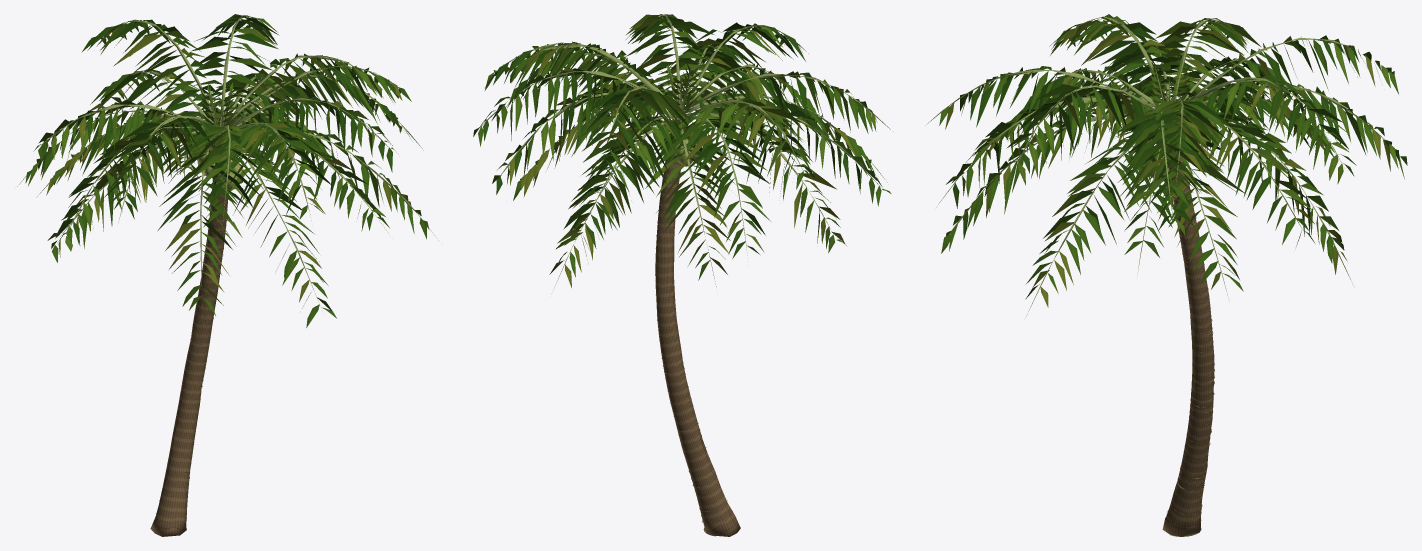
File: Coconut_LOD2.glb
3 views of the same model, side by side, from view 1: azimuth 30°, elevation 25°; view 2: azimuth 150°, elevation 25°; view 3: azimuth 270°, elevation 25° (orthographic). The views are drawn at different scales.
Parts seen in each view (by area): view 1: Coconut_Individual_Pinnae.005, Coconut_Trunk_GrowthScars.006, Coconut_Rachis_Crownshaft.006; view 2: Coconut_Individual_Pinnae.005, Coconut_Trunk_GrowthScars.006, Coconut_Rachis_Crownshaft.006; view 3: Coconut_Individual_Pinnae.005, Coconut_Trunk_GrowthScars.006, Coconut_Rachis_Crownshaft.006.
Boxes of the visible parts, left/top/right/bottom form: Coconut_Individual_Pinnae.005: left=25, top=14, right=429, bottom=327; Coconut_Trunk_GrowthScars.006: left=150, top=140, right=235, bottom=536; Coconut_Rachis_Crownshaft.006: left=17, top=15, right=438, bottom=333; Coconut_Individual_Pinnae.005: left=473, top=14, right=891, bottom=287; Coconut_Trunk_GrowthScars.006: left=655, top=118, right=740, bottom=536; Coconut_Rachis_Crownshaft.006: left=478, top=14, right=890, bottom=289; Coconut_Individual_Pinnae.005: left=939, top=14, right=1407, bottom=307; Coconut_Trunk_GrowthScars.006: left=1156, top=142, right=1214, bottom=536; Coconut_Rachis_Crownshaft.006: left=925, top=16, right=1388, bottom=318.
Bounding box in the file's own units: 8.72 × 10.32 × 8.85.
Materials: 4 (2 with a texture image).
